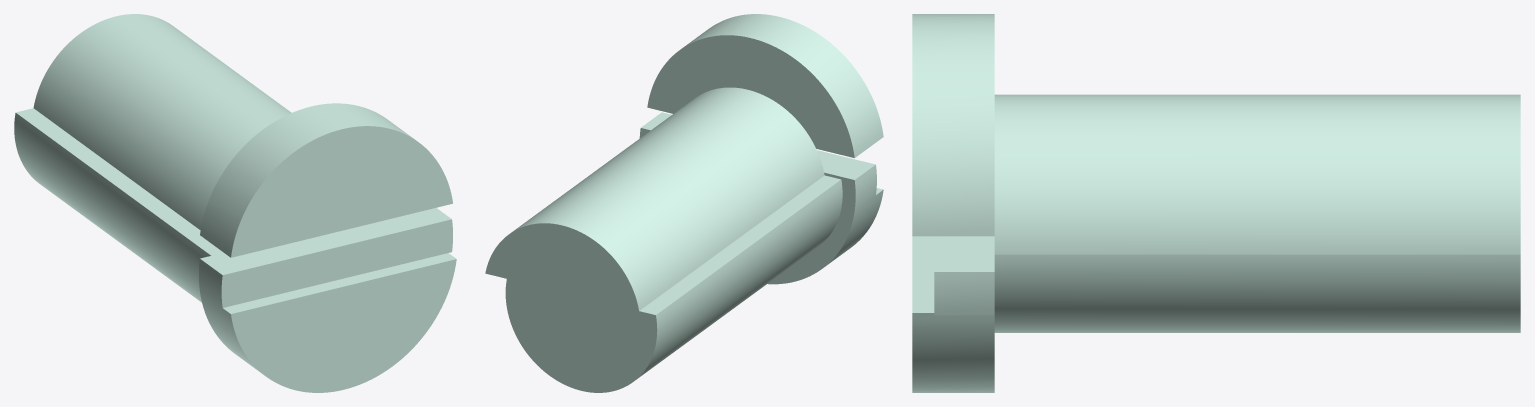
The picture shows the model from 3 angles, left to right: view 1: azimuth 30°, elevation 25°; view 2: azimuth 150°, elevation 25°; view 3: azimuth 270°, elevation 25°; orthographic projection. The views are drawn at different scales.
Parts seen in each view (by area): view 1: Renderer Node; view 2: Renderer Node; view 3: Renderer Node.
Boxes of the visible parts, left/top/right/bottom form: Renderer Node: left=14, top=14, right=456, bottom=392; Renderer Node: left=485, top=14, right=883, bottom=392; Renderer Node: left=912, top=14, right=1520, bottom=392.
Bounding box in the file's own units: 0.5046 × 0.5436 × 0.8672.
